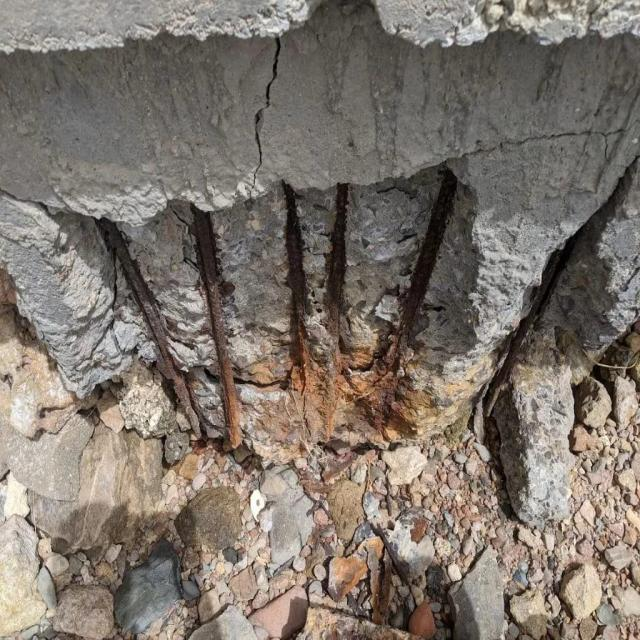Spalling: (0, 0, 639, 463)
corrosion: (99, 220, 203, 438), (393, 170, 456, 369), (193, 209, 241, 448), (324, 184, 346, 439)
crack: (253, 37, 279, 186)
